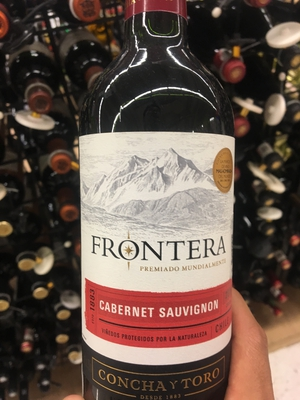frontera cabernet sauvignon: (80, 3, 233, 400)
